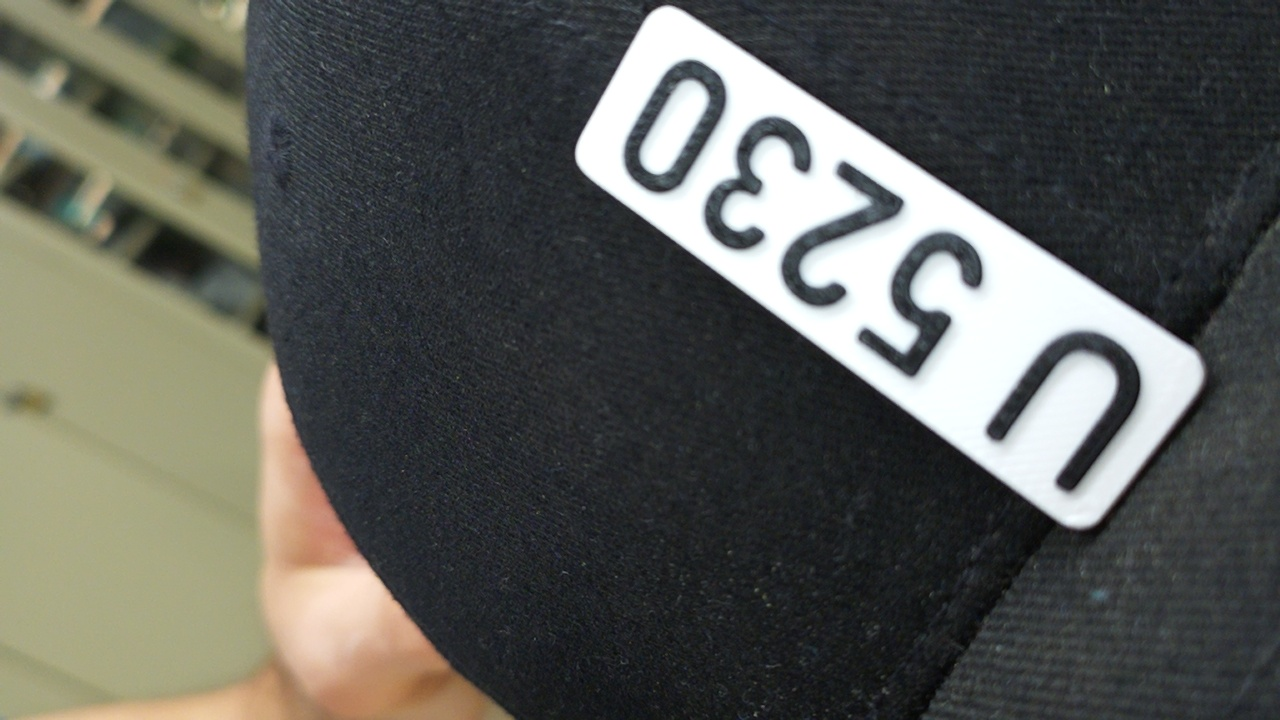license_plate: (570, 0, 1212, 542)
